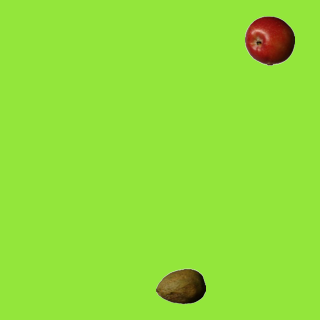Apple Braeburn: (244, 15, 294, 65)
Papaya: (155, 261, 205, 311)
